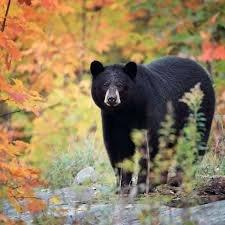bear: (89, 54, 215, 194)
